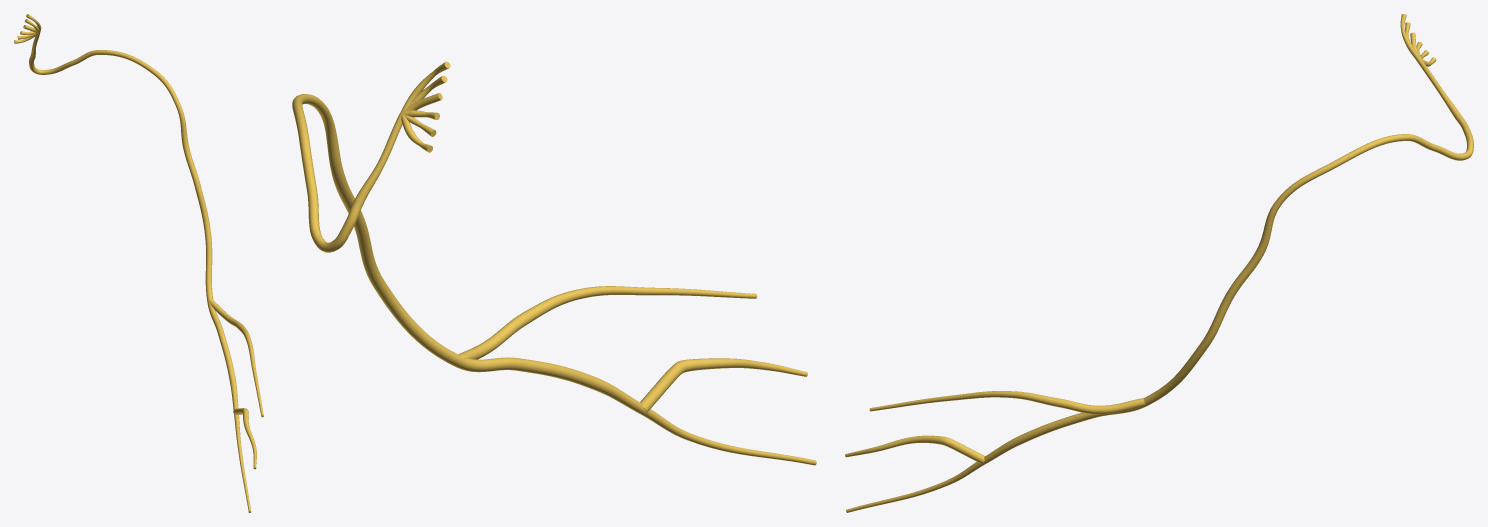
File: Hypoglossal_nerve_XII_left.glb
The picture shows the model from 3 angles, left to right: view 1: azimuth 30°, elevation 25°; view 2: azimuth 150°, elevation 25°; view 3: azimuth 270°, elevation 25°; orthographic projection. The views are drawn at different scales.
Visible parts, largest first — view 1: Hyppoglossal_nerve_(XII).l_BezierCurve.524; view 2: Hyppoglossal_nerve_(XII).l_BezierCurve.524; view 3: Hyppoglossal_nerve_(XII).l_BezierCurve.524.
Boxes of the visible parts, <box> form: Hyppoglossal_nerve_(XII).l_BezierCurve.524: <box>14,14,263,512</box>; Hyppoglossal_nerve_(XII).l_BezierCurve.524: <box>292,61,816,465</box>; Hyppoglossal_nerve_(XII).l_BezierCurve.524: <box>845,14,1473,512</box>.
Size of the model in its own units: 0.0207 by 0.0617 by 0.0723.
